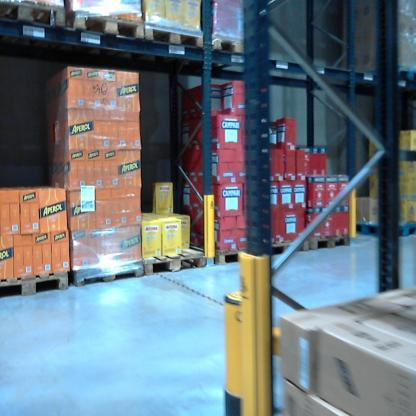pallets: (0, 3, 250, 58), (67, 239, 213, 293), (195, 228, 281, 269), (0, 270, 69, 300), (268, 231, 352, 255)
